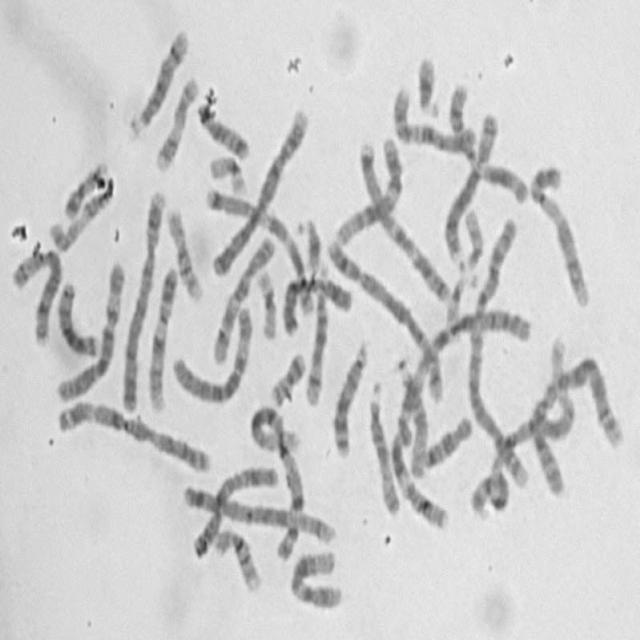A1: (466, 381, 578, 521), (247, 397, 306, 561)
A2: (464, 210, 532, 493), (524, 348, 621, 495)
A3: (399, 302, 536, 473), (51, 394, 213, 476)
B4: (206, 101, 312, 281), (117, 184, 167, 415)
B5: (323, 234, 446, 406), (180, 478, 340, 548)
C10: (208, 227, 277, 366), (389, 81, 479, 156)
C11: (444, 79, 529, 205), (388, 424, 450, 532)
C12: (330, 133, 405, 248), (288, 544, 344, 613)
C6: (52, 256, 127, 404), (168, 298, 256, 406)
C7: (357, 135, 452, 304), (203, 184, 317, 320)
C8: (441, 106, 502, 265), (9, 240, 65, 346)
C9: (526, 158, 592, 311), (144, 262, 180, 415)
D13: (330, 336, 371, 458), (54, 274, 101, 359)
D14: (127, 21, 191, 137), (302, 275, 331, 409)
D15: (365, 377, 402, 519), (394, 356, 429, 478)
E16: (163, 203, 204, 302), (210, 522, 264, 593)
E17: (46, 180, 116, 254), (152, 70, 200, 173)
E18: (193, 96, 252, 162), (420, 409, 474, 471)
F19: (206, 148, 248, 196), (254, 264, 279, 342)
F20: (61, 157, 110, 221), (267, 345, 308, 408)
G21: (414, 49, 442, 119), (294, 212, 322, 272)
G22: (443, 266, 479, 326), (459, 203, 485, 274)
X: (189, 460, 281, 560), (279, 269, 355, 337)
